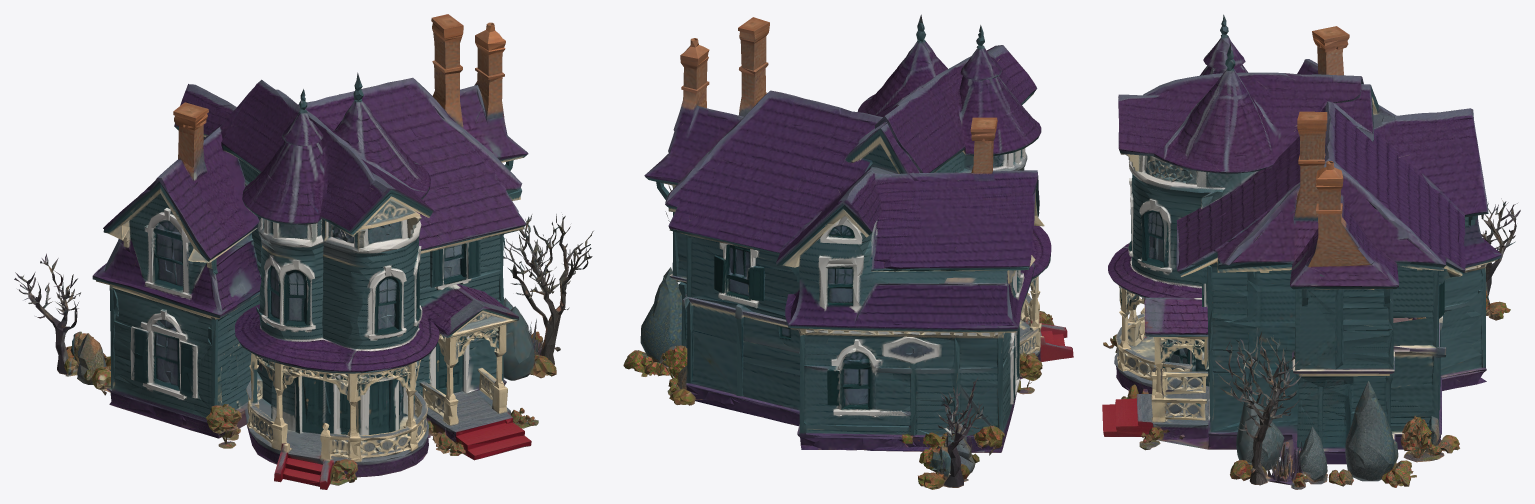
Rendered from lovecraft_shell.glb.
3 views of the same model, side by side, from view 1: azimuth 30°, elevation 25°; view 2: azimuth 150°, elevation 25°; view 3: azimuth 270°, elevation 25° (orthographic). The views are drawn at different scales.
Size of the model in its own units: 1.86 by 1.38 by 1.52.
1 material, 1 textured.
